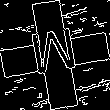M_S: (28, 26, 82, 84)
